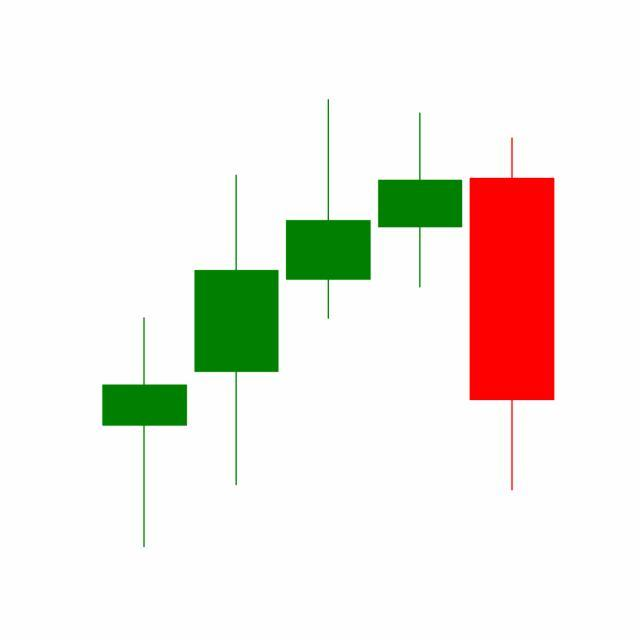Three Line Strike: (189, 100, 555, 497)
